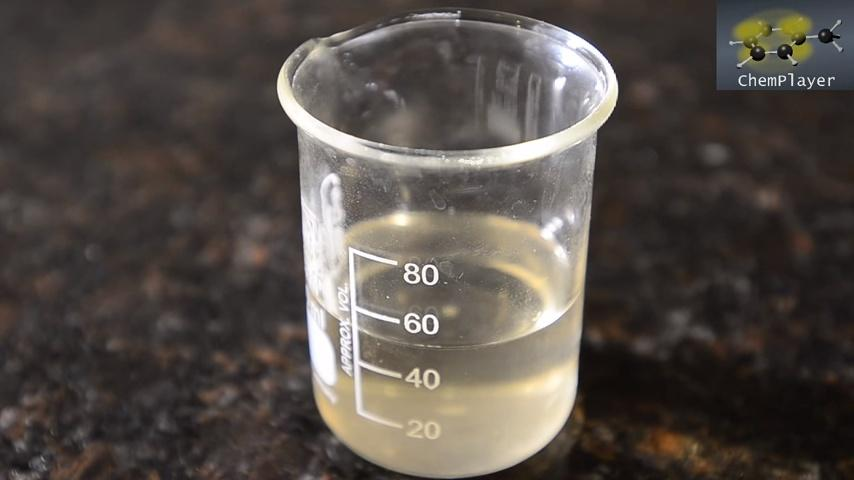Beaker: (234, 22, 685, 471)
